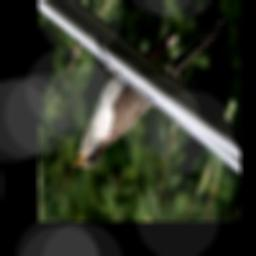Cuckoo: (69, 19, 228, 169)
